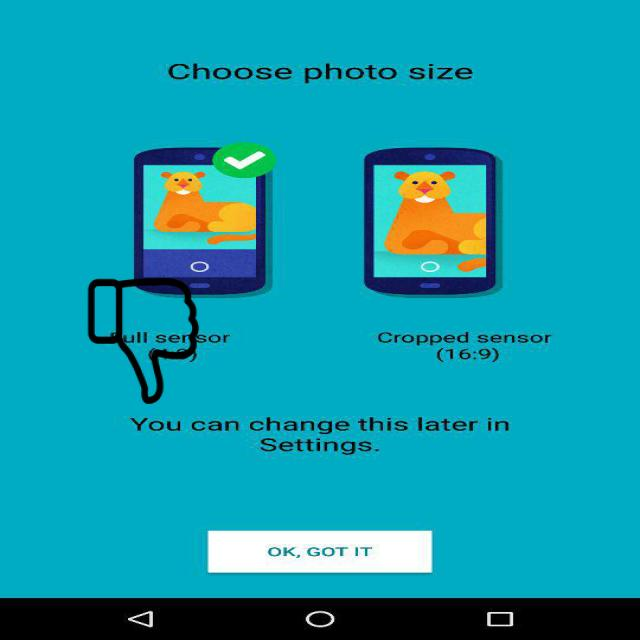obstruction: (86, 278, 200, 404)
